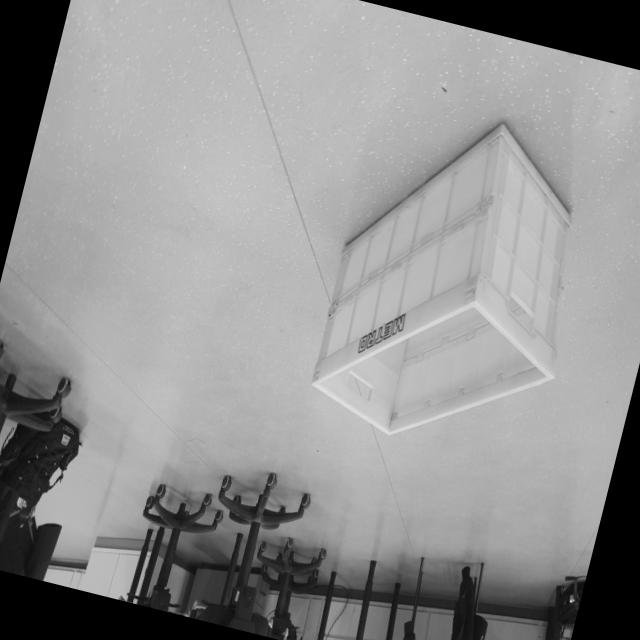box: (293, 91, 614, 492)
